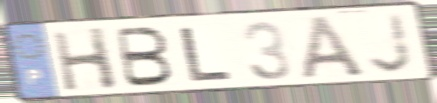3: (241, 18, 292, 81)
A: (299, 13, 369, 82)
B: (113, 25, 175, 89)
H: (49, 25, 122, 93)
J: (366, 11, 416, 75)
L: (178, 24, 235, 83)
